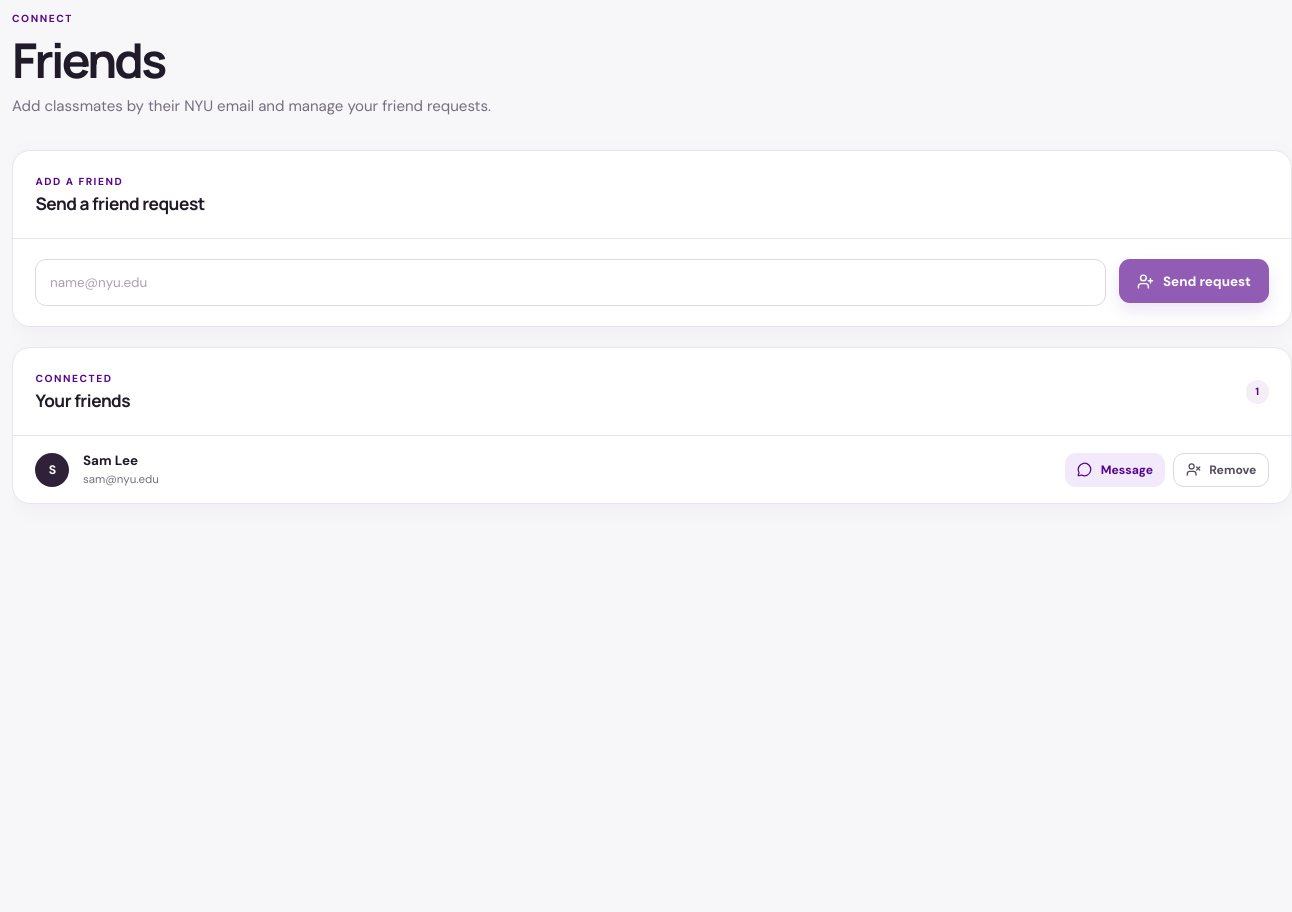
Scenario: removing a friend › confirming sends the DELETE request and the friend disappears from the list
Expected: the text "Sam Lee" is shown, [83, 452, 138, 470]
Click the button with aria-label "remove sam lee as a friend".
click(1221, 470)  # box [1173, 453, 1269, 487]
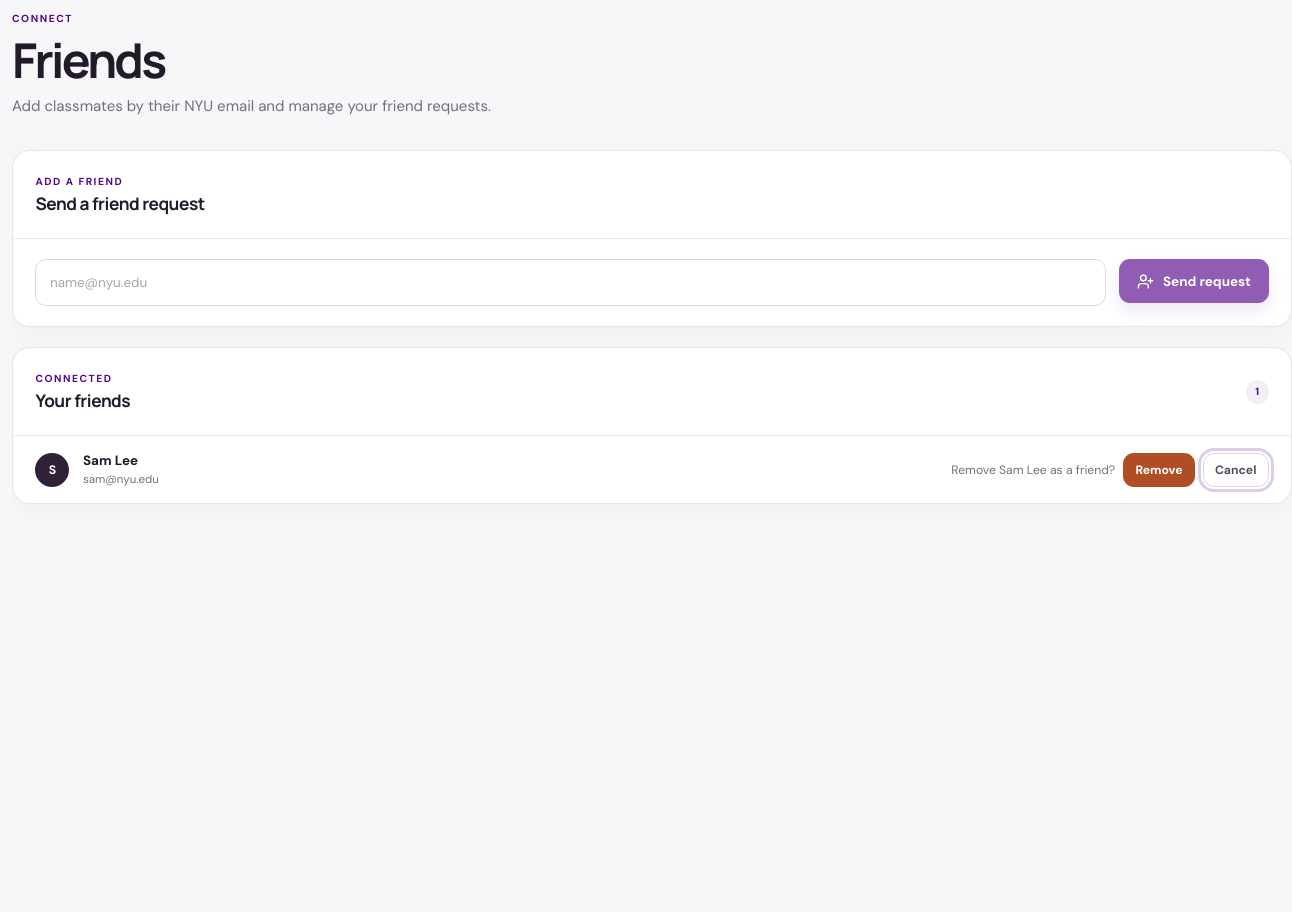
Click the button "Remove".
click(1159, 470)  # box [1123, 453, 1195, 487]
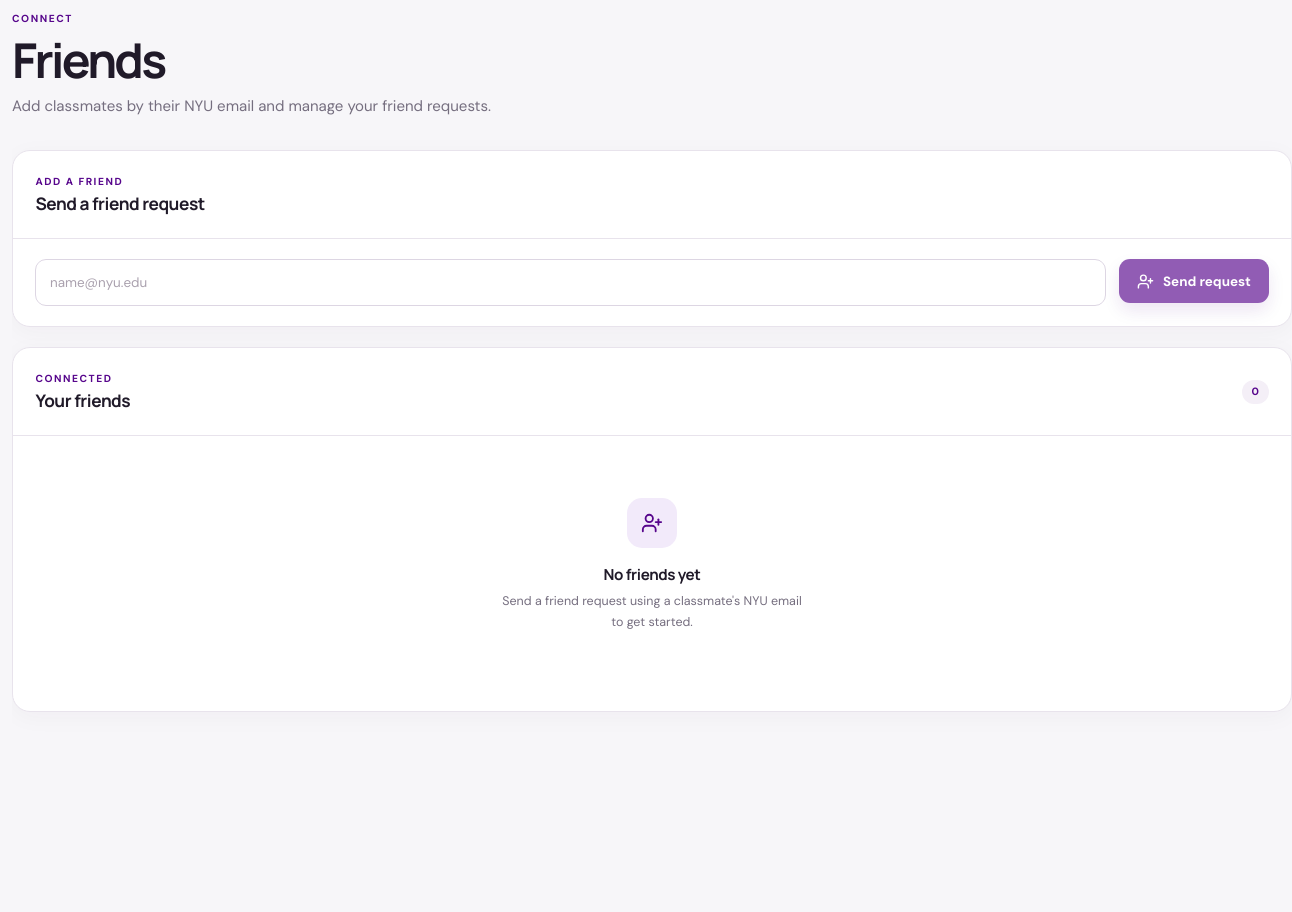
Result: the heading "No friends yet" is shown at [604, 564, 700, 585]
